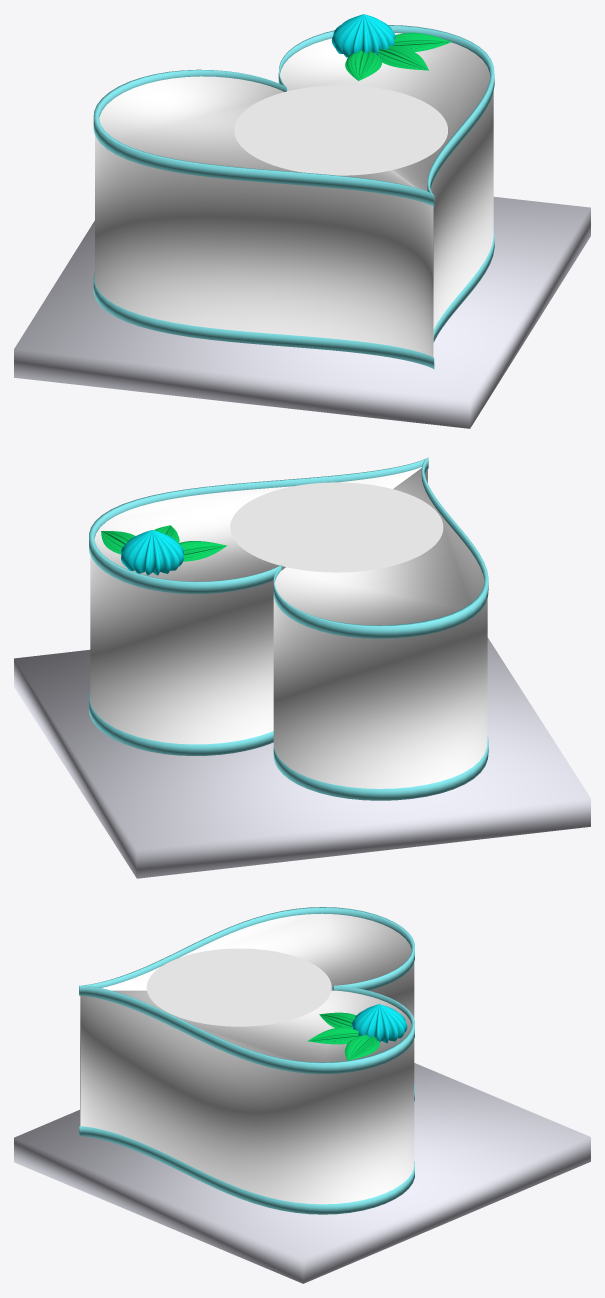
Rendered from heart_vanilla_image.glb.
3 renders of one model, top to bottom at view 1: azimuth 30°, elevation 25°; view 2: azimuth 150°, elevation 25°; view 3: azimuth 270°, elevation 25°, orthographic. The views are drawn at different scales.
Parts seen in each view (by area): view 1: HeartCake, IcingStand, CakeTopImage, IcingRing, IcingRing.001, leaf.001, design1; view 2: HeartCake, IcingStand, CakeTopImage, IcingRing, IcingRing.001, design1, leaf.001; view 3: HeartCake, IcingStand, CakeTopImage, IcingRing, IcingRing.001, leaf.001, design1.
Part boxes in pixels (bbox=[...]): HeartCake: bbox=[95, 33, 493, 357]; IcingStand: bbox=[14, 196, 590, 428]; CakeTopImage: bbox=[234, 85, 447, 175]; IcingRing: bbox=[93, 25, 494, 206]; IcingRing.001: bbox=[93, 229, 494, 368]; leaf.001: bbox=[345, 32, 451, 80]; design1: bbox=[331, 14, 395, 57]; HeartCake: bbox=[90, 467, 487, 788]; IcingStand: bbox=[14, 637, 590, 878]; CakeTopImage: bbox=[230, 482, 443, 572]; IcingRing: bbox=[89, 457, 488, 638]; IcingRing.001: bbox=[89, 692, 488, 800]; design1: bbox=[121, 530, 183, 575]; leaf.001: bbox=[101, 525, 226, 561]; HeartCake: bbox=[80, 913, 414, 1204]; IcingStand: bbox=[14, 1063, 590, 1283]; CakeTopImage: bbox=[146, 948, 331, 1026]; IcingRing: bbox=[79, 907, 414, 1073]; IcingRing.001: bbox=[79, 1083, 414, 1214]; leaf.001: bbox=[307, 1012, 379, 1060]; design1: bbox=[351, 1004, 407, 1043].
Size of the model in its own units: 4.24 by 1.64 by 4.24.
